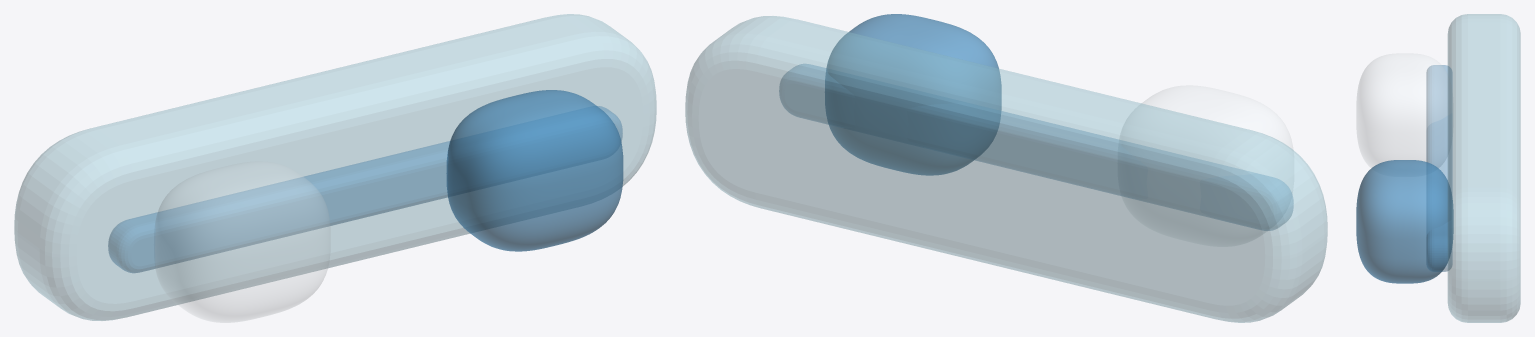
The picture shows the model from 3 angles, left to right: view 1: azimuth 30°, elevation 25°; view 2: azimuth 150°, elevation 25°; view 3: azimuth 270°, elevation 25°; orthographic projection. The views are drawn at different scales.
Parts seen in each view (by area): view 1: cradle, thumb-1, thumb-0, channel; view 2: cradle, channel, thumb-1, thumb-0; view 3: cradle, thumb-1, thumb-0, channel.
Part boxes in pixels (<box>): cradle: <box>14,14,656,320</box>; thumb-1: <box>446,90,623,251</box>; thumb-0: <box>155,161,330,322</box>; channel: <box>108,106,622,272</box>; cradle: <box>685,16,1327,322</box>; channel: <box>779,64,1293,230</box>; thumb-1: <box>825,14,1001,175</box>; thumb-0: <box>1142,85,1292,149</box>; cradle: <box>1448,14,1520,322</box>; thumb-1: <box>1356,160,1453,283</box>; thumb-0: <box>1356,53,1447,167</box>; channel: <box>1426,65,1452,271</box>.
Bounding box in the file's own units: 2.6 × 0.69 × 0.81.
